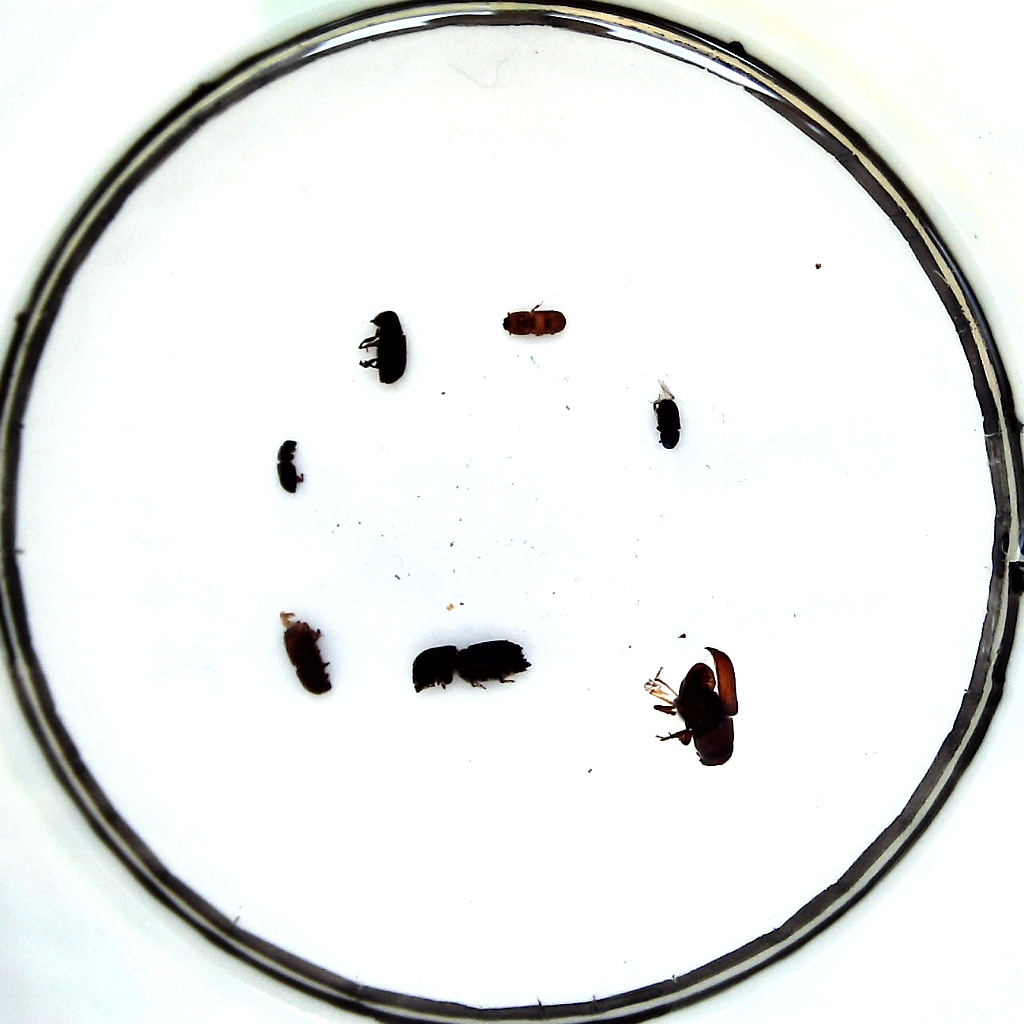Boerner: (409, 640, 530, 691)
Leconte: (642, 647, 736, 768)
Linnaeus: (279, 613, 336, 698)
acuminatus: (505, 309, 567, 343)
armandi: (358, 310, 409, 386)
coleoptera: (273, 438, 308, 494), (651, 394, 684, 450)
